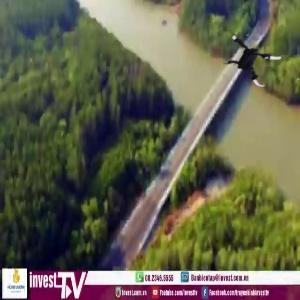drone: (217, 25, 285, 93)
